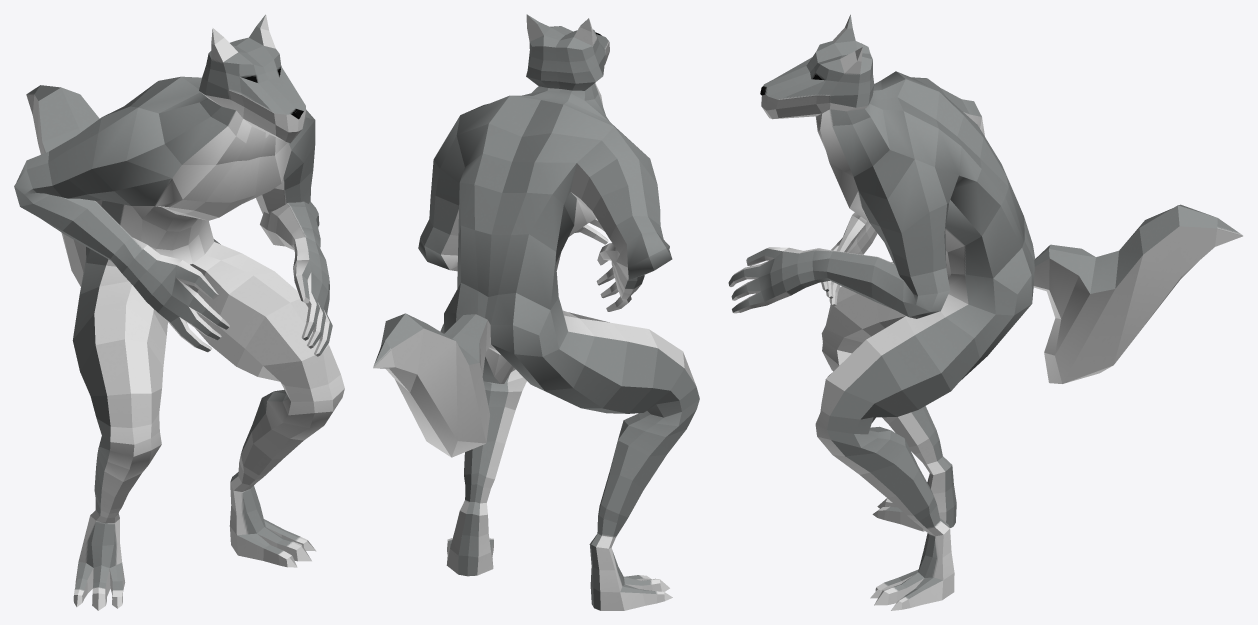
File: WolfIdle_(19).obj
The picture shows the model from 3 angles, left to right: view 1: azimuth 30°, elevation 25°; view 2: azimuth 150°, elevation 25°; view 3: azimuth 270°, elevation 25°; orthographic projection. The views are drawn at different scales.
Parts seen in each view (by area): view 1: Box001; view 2: Box001; view 3: Box001.
Part boxes in pixels (x1,y1,x2,y2): Box001: (14,14,344,610); Box001: (373,14,699,610); Box001: (728,14,1242,610).
Size of the model in its own units: 67.81 by 133 by 114.
